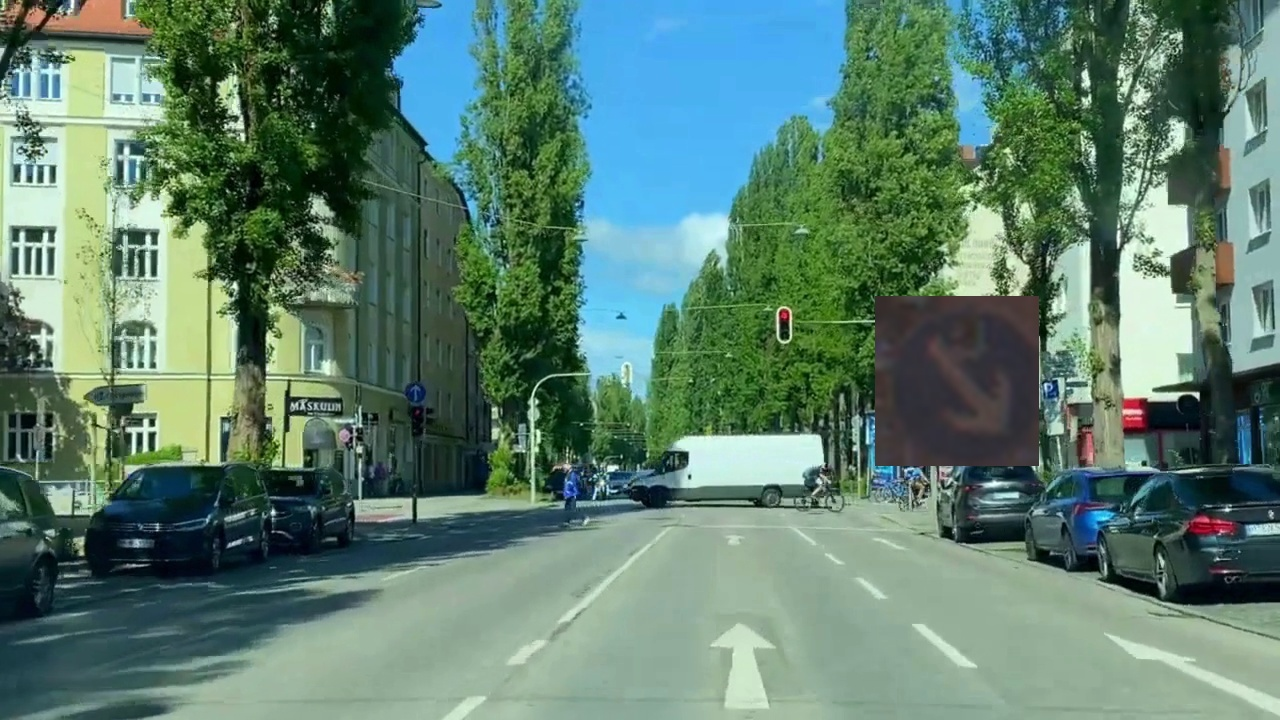Keep right: (875, 296, 1039, 466)
